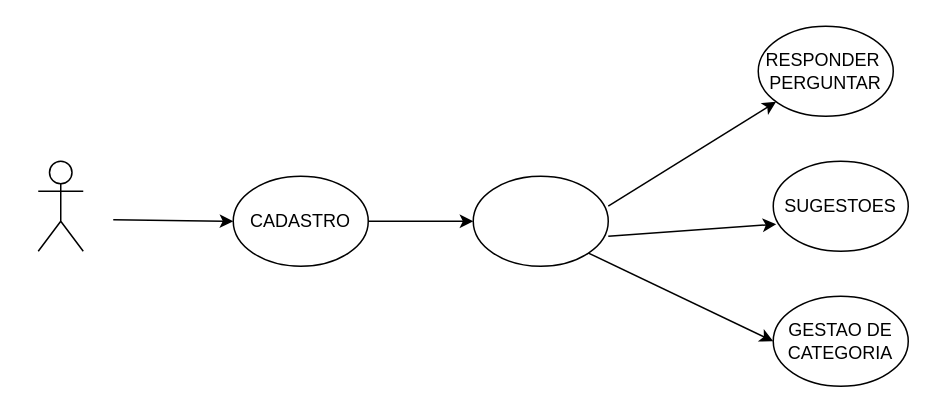
Image size: 935x413. Some labels were removed from this diagram. Each missing label, with the centre of its shape:
LOGIN: (540,220)
USARIO: (60,205)
